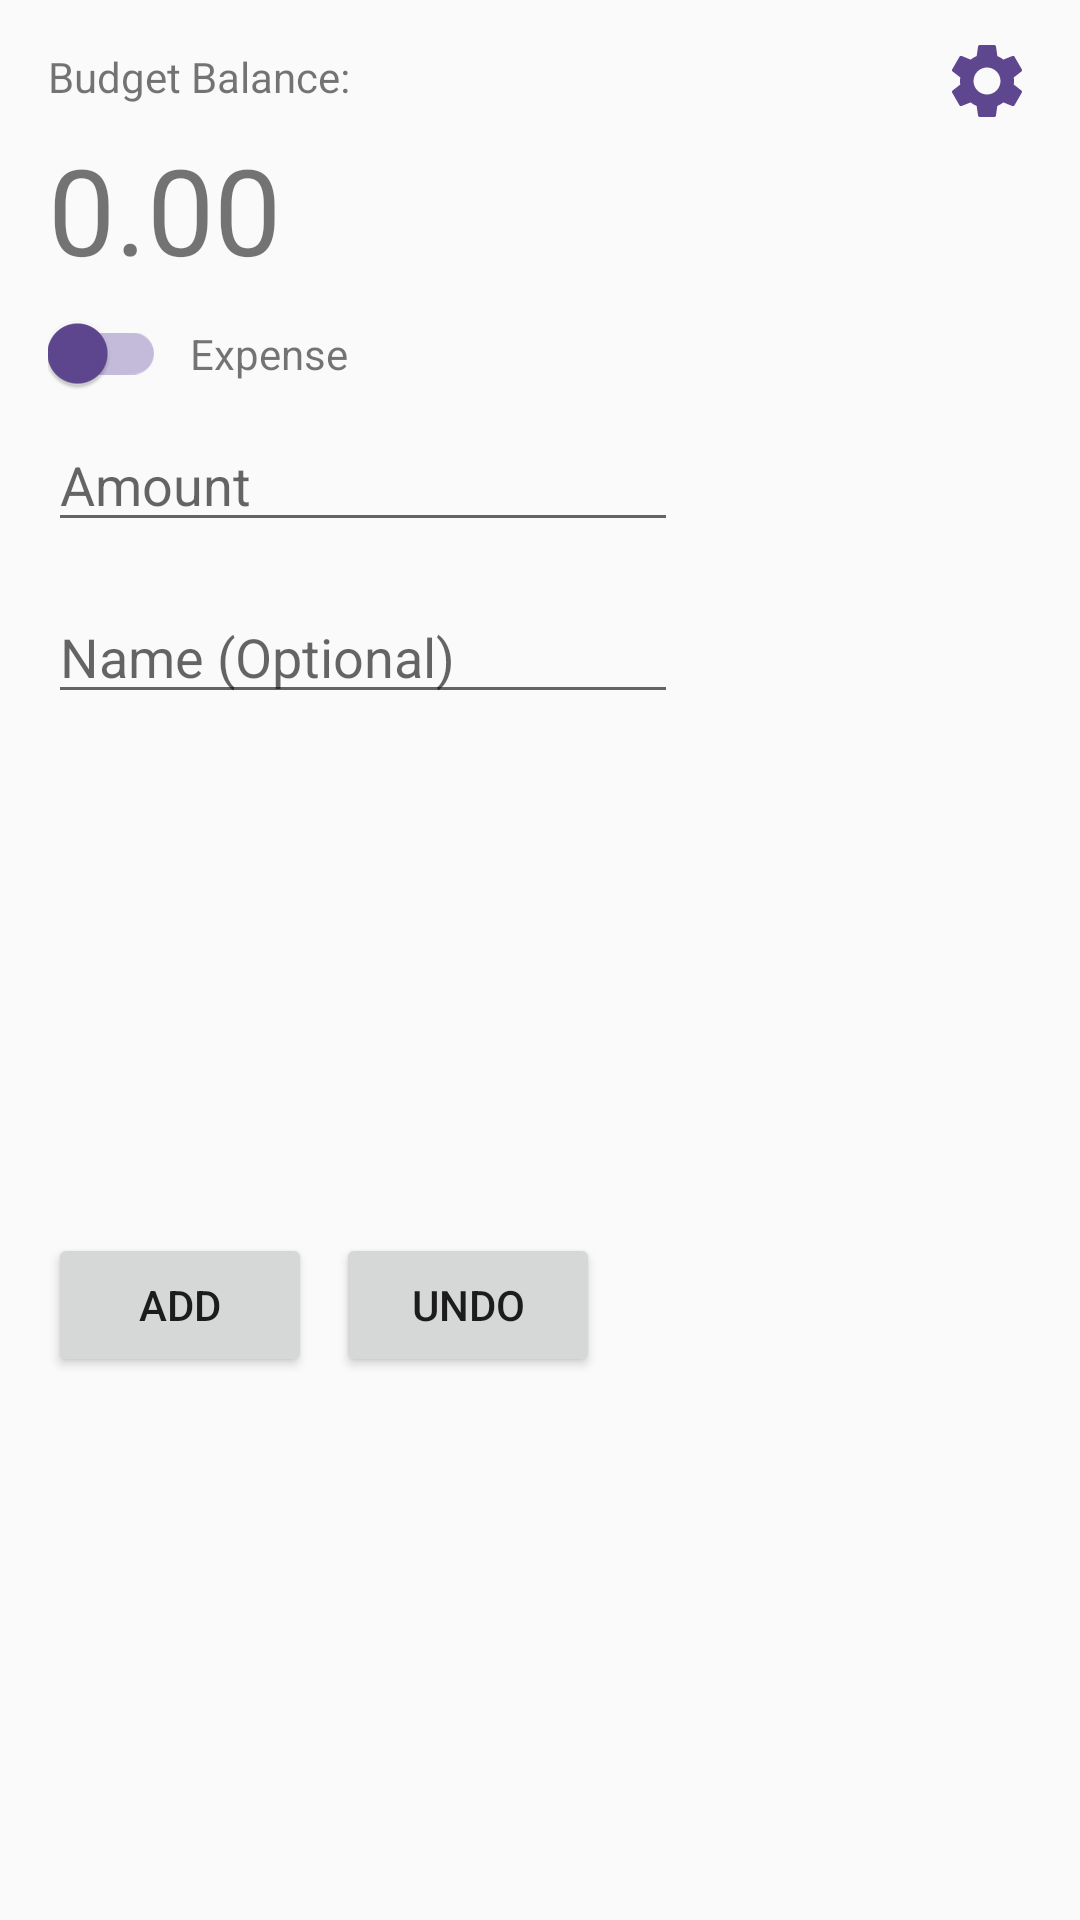

Screen size 1080*1920. Icon name, then its box in pixels as (x1=x1, y1=y1, x2=x2, y2=y2):
settings: (x1=952, y1=45, x2=1022, y2=117)
